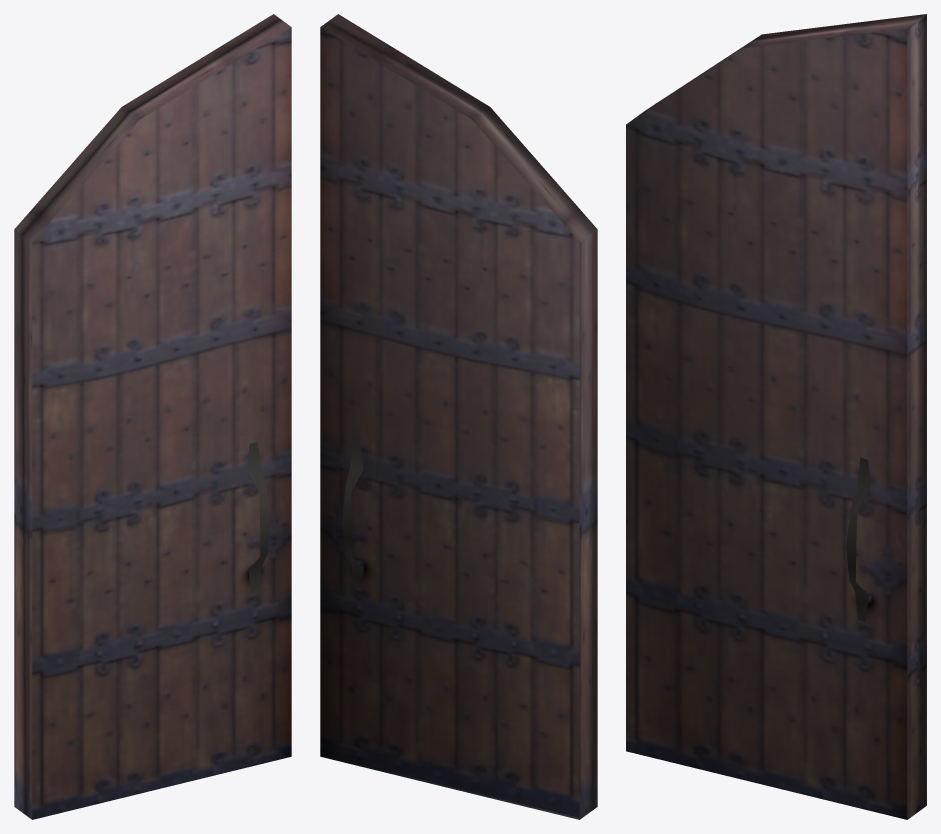
The model's file is DoorR2.glb.
The picture shows the model from 3 angles, left to right: view 1: azimuth 30°, elevation 25°; view 2: azimuth 150°, elevation 25°; view 3: azimuth 330°, elevation 25°; orthographic projection. The views are drawn at different scales.
Parts seen in each view (by area): view 1: DoorR2; view 2: DoorR2; view 3: DoorR2.
Part boxes in pixels (bbox=[...]): DoorR2: bbox=[14, 14, 291, 819]; DoorR2: bbox=[320, 14, 597, 819]; DoorR2: bbox=[626, 14, 926, 819].
Size of the model in its own units: 1.66 by 4.46 by 0.4858.
2 materials, 2 textured.
